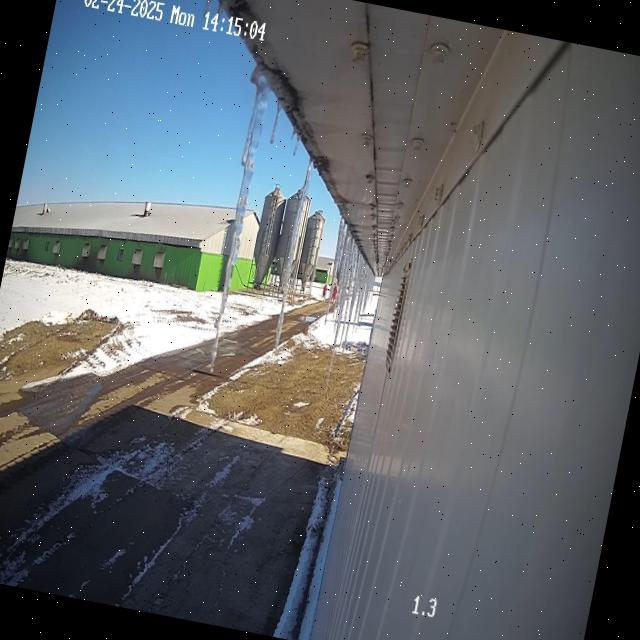Red uniform: (328, 282, 338, 313), (322, 283, 328, 300)
